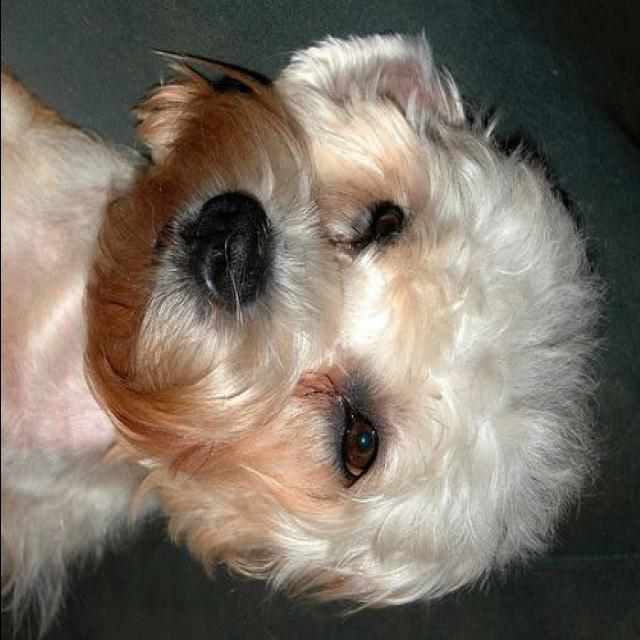dandie_dinmont: (2, 29, 604, 634)
